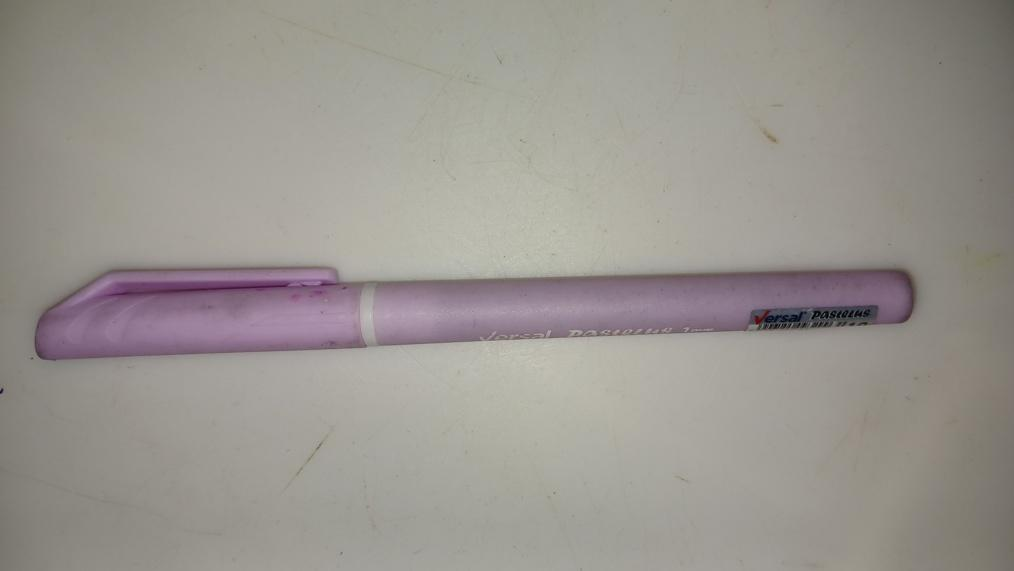pen: (30, 268, 916, 353)
